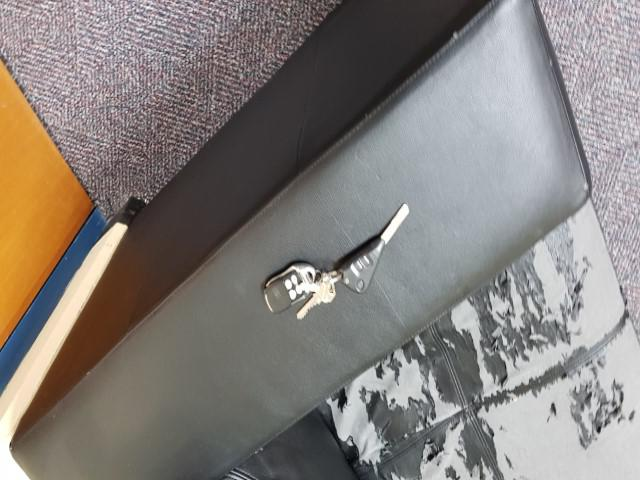key: (332, 200, 412, 295)
